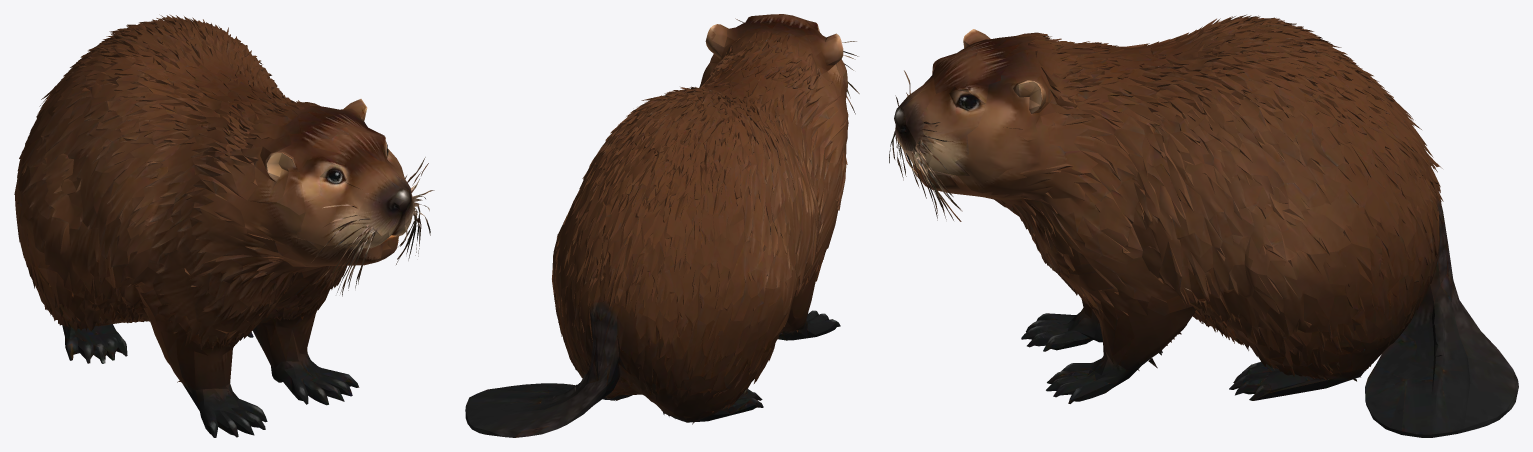
File: beaver.glb
3 views of the same model, side by side, from view 1: azimuth 30°, elevation 25°; view 2: azimuth 150°, elevation 25°; view 3: azimuth 270°, elevation 25° (orthographic). The views are drawn at different scales.
Size of the model in its own units: 1.03 by 1.1 by 1.9.
1 material, 1 textured.
